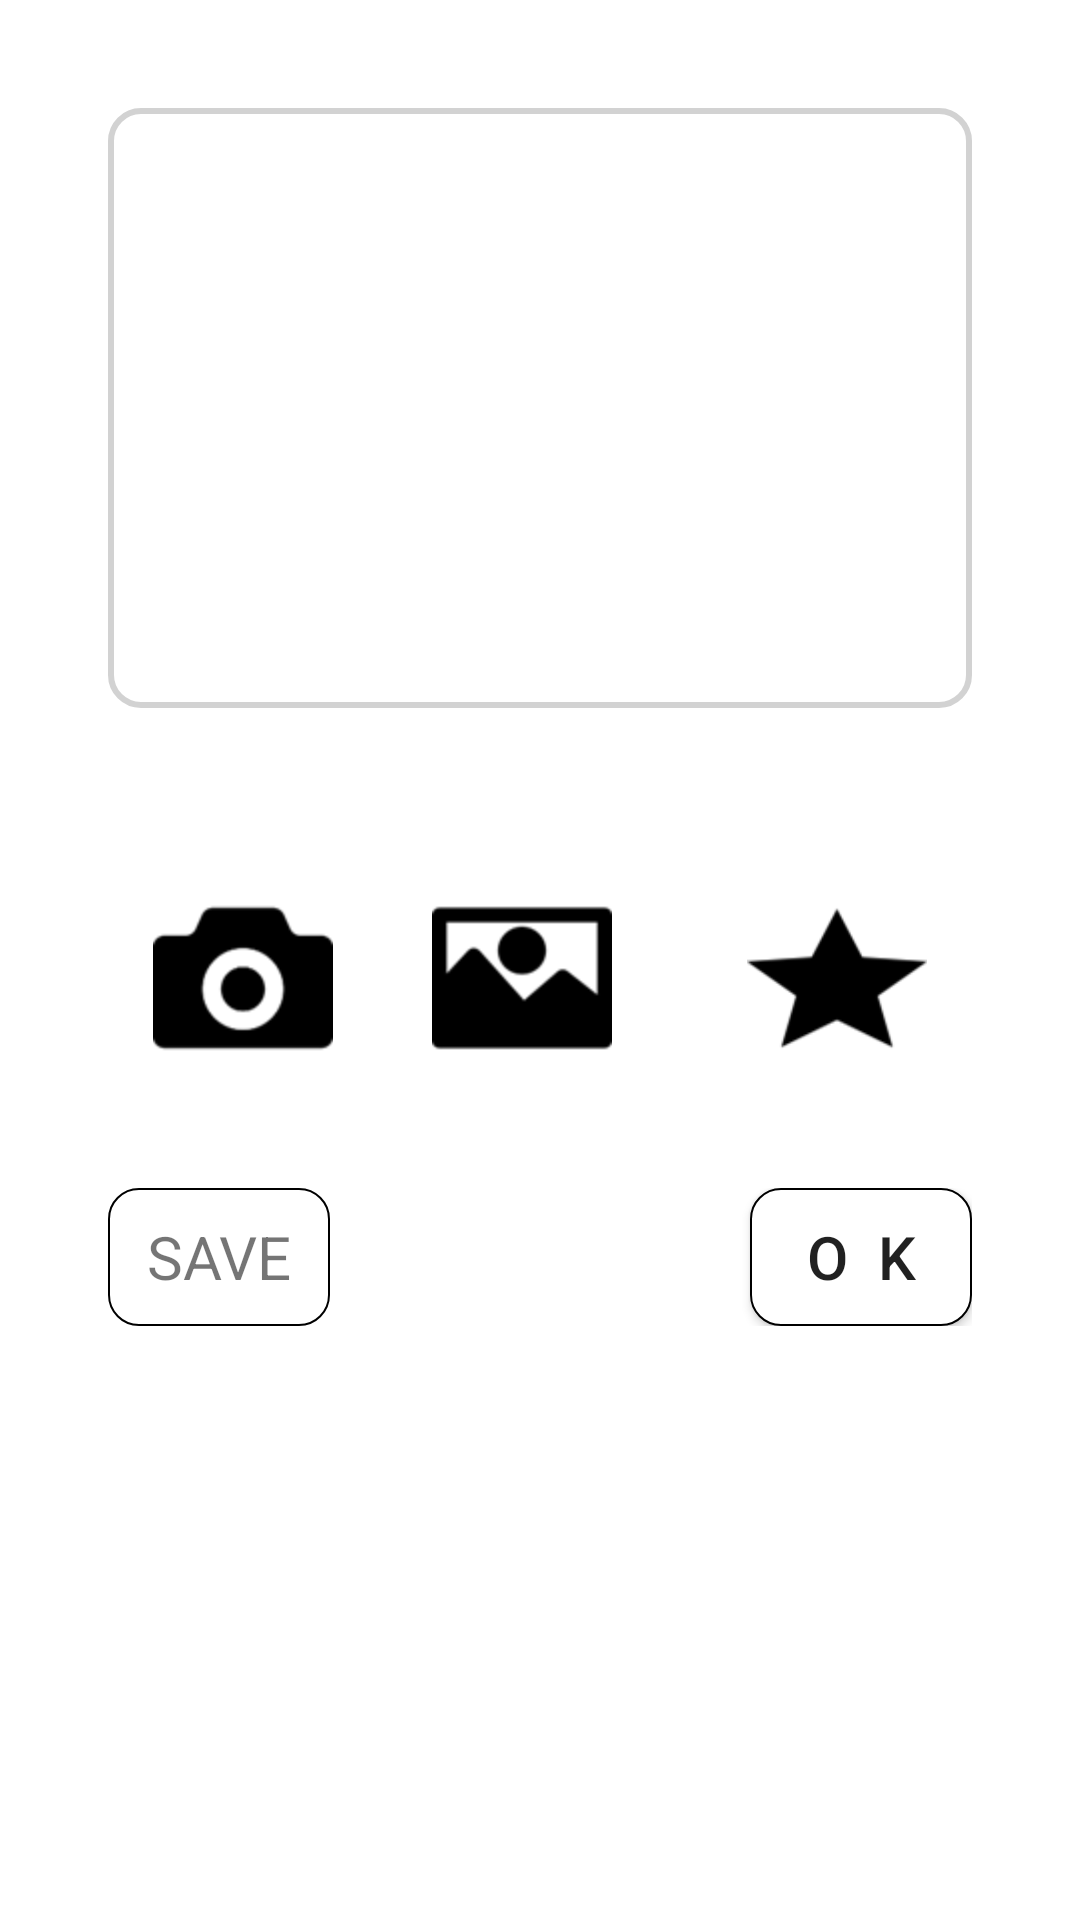

Icons on this 1080w x 1920h Android screen, each with the point to tap as point (x, y):
cam: point (219, 963)
fav: point (813, 964)
gal: point (498, 963)
